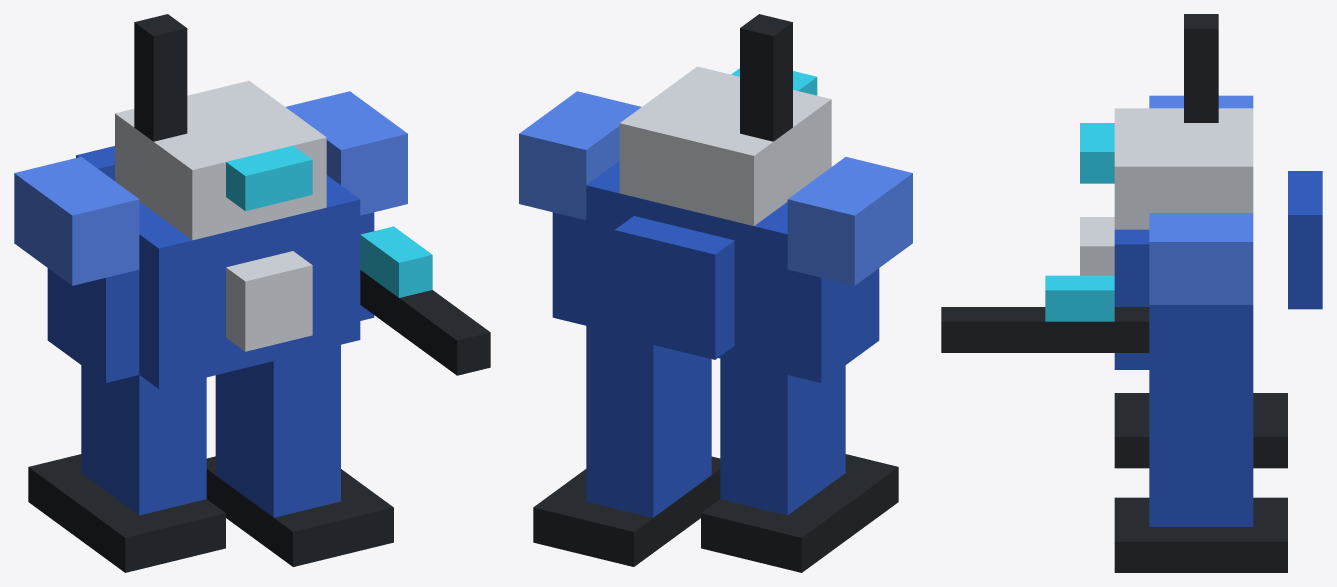
Rendered from mech_light_scout_walk_b.glb.
3 views of the same model, side by side, from view 1: azimuth 30°, elevation 25°; view 2: azimuth 150°, elevation 25°; view 3: azimuth 270°, elevation 25° (orthographic). The views are drawn at different scales.
Visible parts, largest first — view 1: Torso mesh, Head mesh, Arm L mesh, Feet mesh, Leg R mesh, Leg L mesh, Gun mesh, Arm R mesh, Antenna mesh, Pack mesh; view 2: Head mesh, Arm L mesh, Feet mesh, Leg R mesh, Leg L mesh, Torso mesh, Pack mesh, Arm R mesh, Antenna mesh; view 3: Arm R mesh, Head mesh, Feet mesh, Leg R mesh, Gun mesh, Torso mesh, Pack mesh, Antenna mesh, Arm L mesh.
Part boxes in pixels (<box>): Torso mesh: <box>139,175,360,388</box>; Head mesh: <box>115,80,326,240</box>; Arm L mesh: <box>14,157,139,382</box>; Feet mesh: <box>28,454,393,572</box>; Leg R mesh: <box>215,344,340,517</box>; Leg L mesh: <box>81,365,206,515</box>; Gun mesh: <box>360,226,490,375</box>; Arm R mesh: <box>285,91,407,320</box>; Antenna mesh: <box>134,14,187,141</box>; Pack mesh: <box>76,146,114,180</box>; Head mesh: <box>619,66,831,225</box>; Arm L mesh: <box>787,157,912,382</box>; Feet mesh: <box>533,454,898,572</box>; Leg R mesh: <box>586,326,711,517</box>; Leg L mesh: <box>720,358,845,515</box>; Torso mesh: <box>586,161,787,374</box>; Pack mesh: <box>614,216,734,359</box>; Arm R mesh: <box>519,91,641,325</box>; Antenna mesh: <box>740,14,792,141</box>; Arm R mesh: <box>1149,213,1253,384</box>; Head mesh: <box>1080,108,1253,229</box>; Feet mesh: <box>1114,393,1287,572</box>; Leg R mesh: <box>1149,384,1253,526</box>; Gun mesh: <box>941,275,1149,352</box>; Torso mesh: <box>1080,217,1149,369</box>; Pack mesh: <box>1288,171,1322,309</box>; Antenna mesh: <box>1184,14,1218,122</box>; Arm L mesh: <box>1149,95,1253,108</box>.
Size of the model in its own units: 10 by 15 by 11.
1 material, 1 textured.
